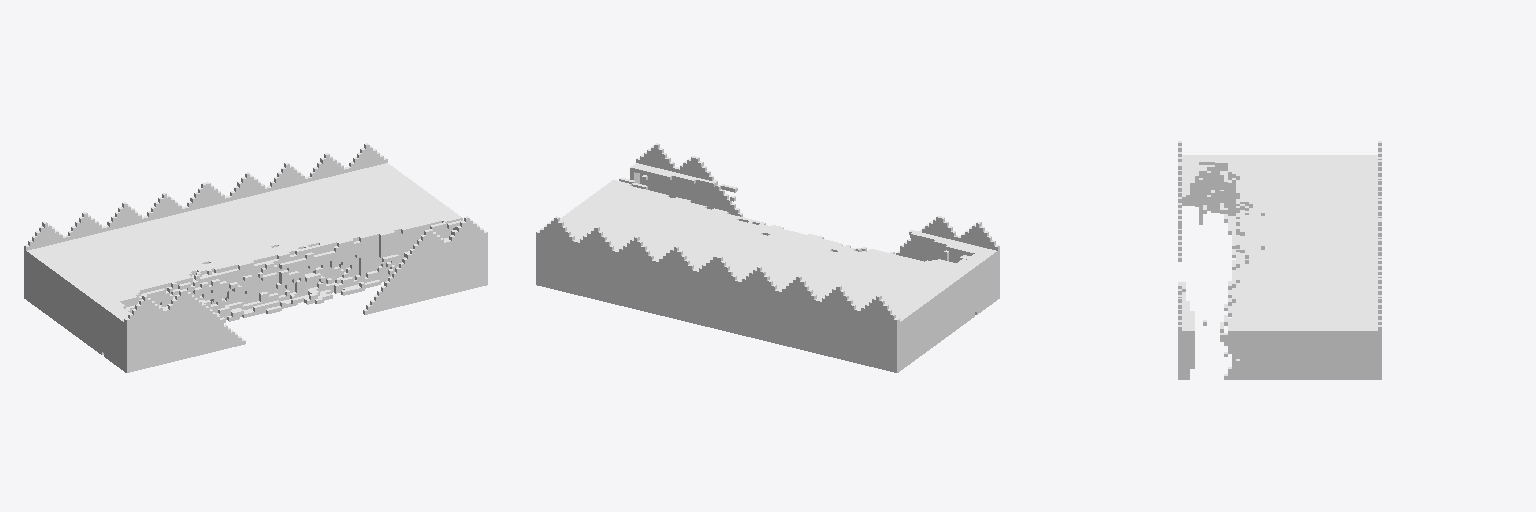
Rendered from path2.obj.
The picture shows the model from 3 angles: view 1: azimuth 30°, elevation 25°; view 2: azimuth 150°, elevation 25°; view 3: azimuth 270°, elevation 25°; orthographic projection.
Visible parts, largest first — view 1: object 1; view 2: object 1; view 3: object 1.
Part boxes in pixels (x1,y1,x2,y2): object 1: (24, 143, 487, 372); object 1: (536, 143, 999, 372); object 1: (1178, 141, 1381, 379).
Size of the model in its own units: 10 by 1.9 by 4.9.